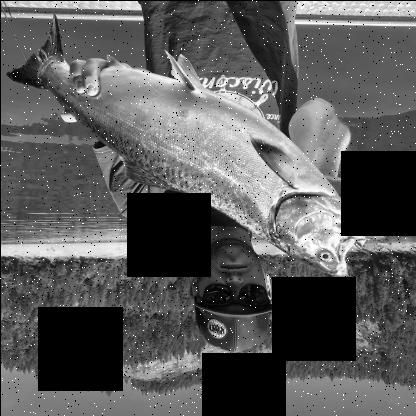fish: (3, 14, 376, 280)
